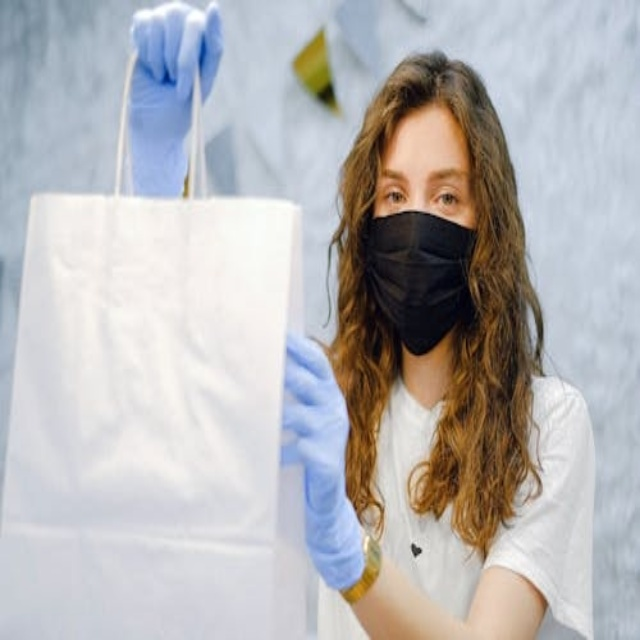Guantes: (280, 327, 368, 593), (125, 0, 226, 199)
Mascara: (362, 211, 478, 355)
Sin_gafas: (379, 160, 463, 219)
